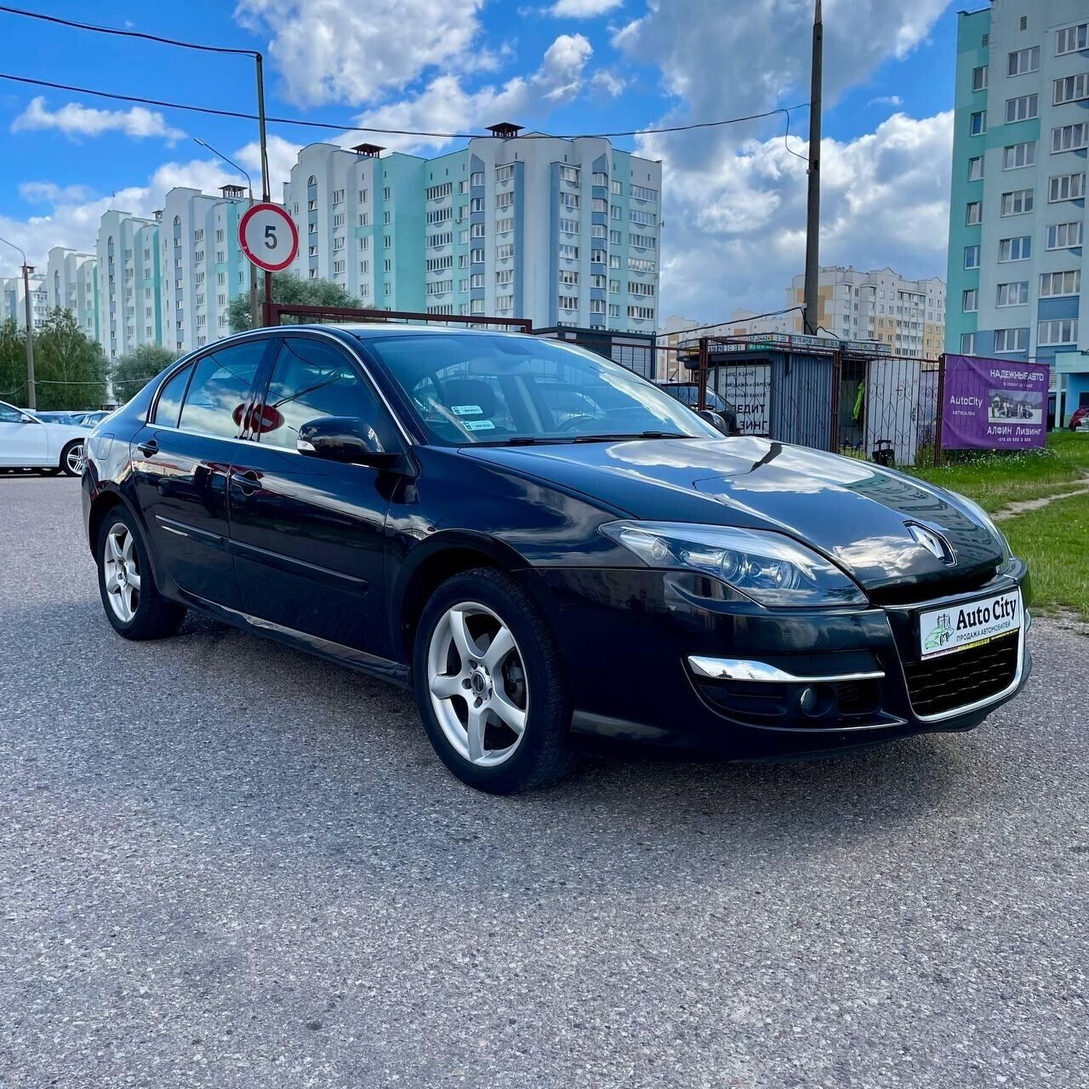Laguna_2010-2015: (79, 313, 1046, 787)
